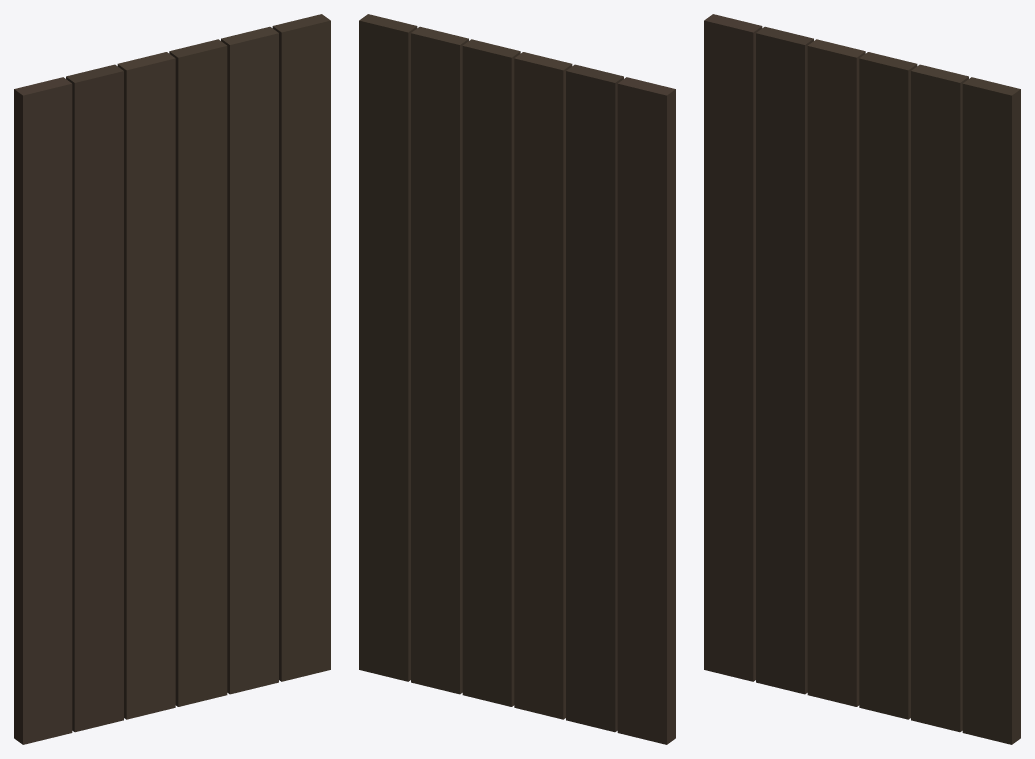
The model's file is SM_Bld_246_Wood.glb.
The picture shows the model from 3 angles, left to right: view 1: azimuth 30°, elevation 25°; view 2: azimuth 150°, elevation 25°; view 3: azimuth 330°, elevation 25°; orthographic projection.
Parts seen in each view (by area): view 1: SM_Bld_246_Wood; view 2: SM_Bld_246_Wood; view 3: SM_Bld_246_Wood.
Boxes of the visible parts, box(x1,y1,x2,y2) form: SM_Bld_246_Wood: box(14, 14, 330, 744); SM_Bld_246_Wood: box(359, 14, 675, 744); SM_Bld_246_Wood: box(704, 14, 1020, 744).
Bounding box in the file's own units: 0.992 × 2 × 0.05.
